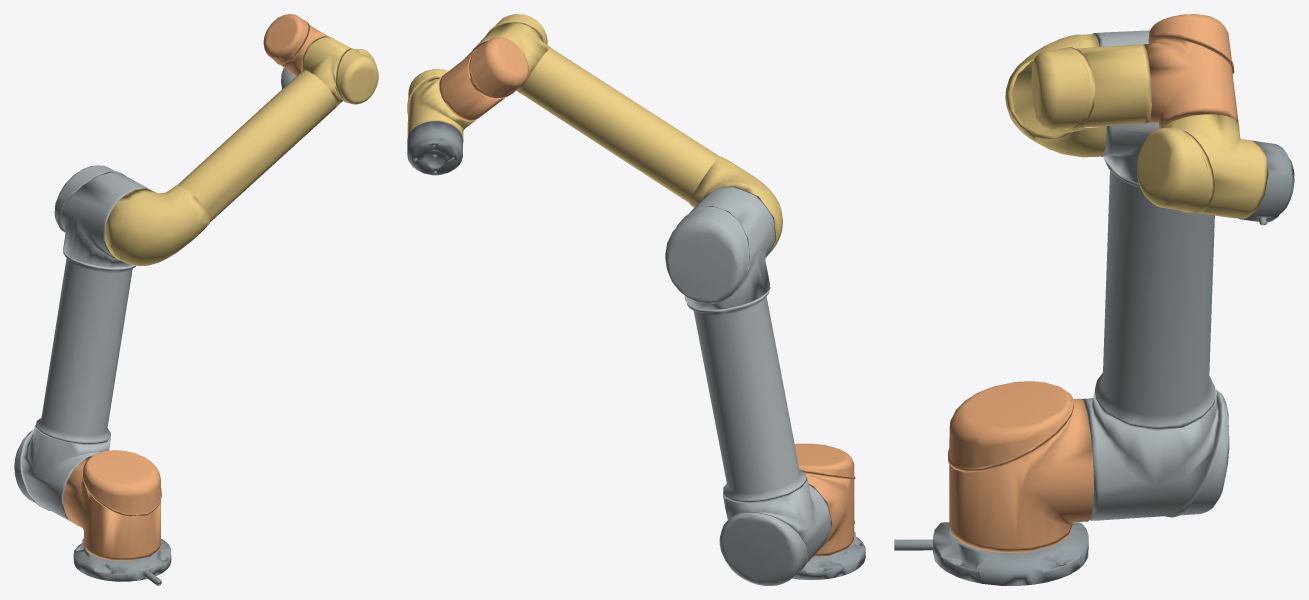
3 views of the same model, side by side, from view 1: azimuth 30°, elevation 25°; view 2: azimuth 150°, elevation 25°; view 3: azimuth 270°, elevation 25° (orthographic). The views are drawn at different scales.
Parts seen in each view (by area): view 1: upper_arm_link visual, forearm_link visual, shoulder_link visual, base_link visual, wrist_1_link visual; view 2: upper_arm_link visual, forearm_link visual, wrist_1_link visual, shoulder_link visual, wrist_3_link visual, wrist_2_link visual, base_link visual; view 3: upper_arm_link visual, shoulder_link visual, forearm_link visual, wrist_2_link visual, wrist_1_link visual, base_link visual, wrist_3_link visual.
Part boxes in pixels (left/top/right/bottom): upper_arm_link visual: left=14, top=165, right=153, bottom=525; forearm_link visual: left=105, top=36, right=378, bottom=265; shoulder_link visual: left=63, top=450, right=161, bottom=560; base_link visual: left=73, top=538, right=171, bottom=585; wrist_1_link visual: left=263, top=14, right=329, bottom=76; upper_arm_link visual: left=665, top=186, right=832, bottom=585; forearm_link visual: left=472, top=14, right=782, bottom=254; wrist_1_link visual: left=439, top=37, right=528, bottom=121; shoulder_link visual: left=794, top=443, right=855, bottom=556; wrist_3_link visual: left=407, top=121, right=463, bottom=175; wrist_2_link visual: left=407, top=69, right=475, bottom=141; base_link visual: left=792, top=520, right=865, bottom=579; upper_arm_link visual: left=1082, top=30, right=1238, bottom=520; shoulder_link visual: left=947, top=381, right=1093, bottom=552; forearm_link visual: left=1005, top=34, right=1151, bottom=157; wrist_2_link visual: left=1137, top=114, right=1268, bottom=218; wrist_1_link visual: left=1144, top=14, right=1238, bottom=128; base_link visual: left=894, top=522, right=1088, bottom=585; wrist_3_link visual: left=1238, top=141, right=1294, bottom=225.
Bounding box in the file's own units: 0.6173 × 0.745 × 0.3778.
